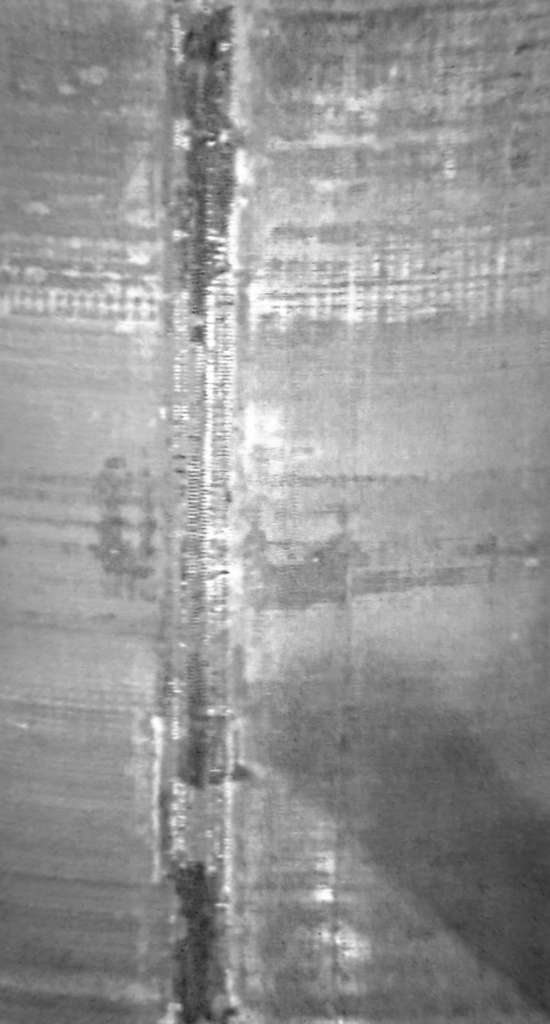splice: (155, 2, 249, 1024)
